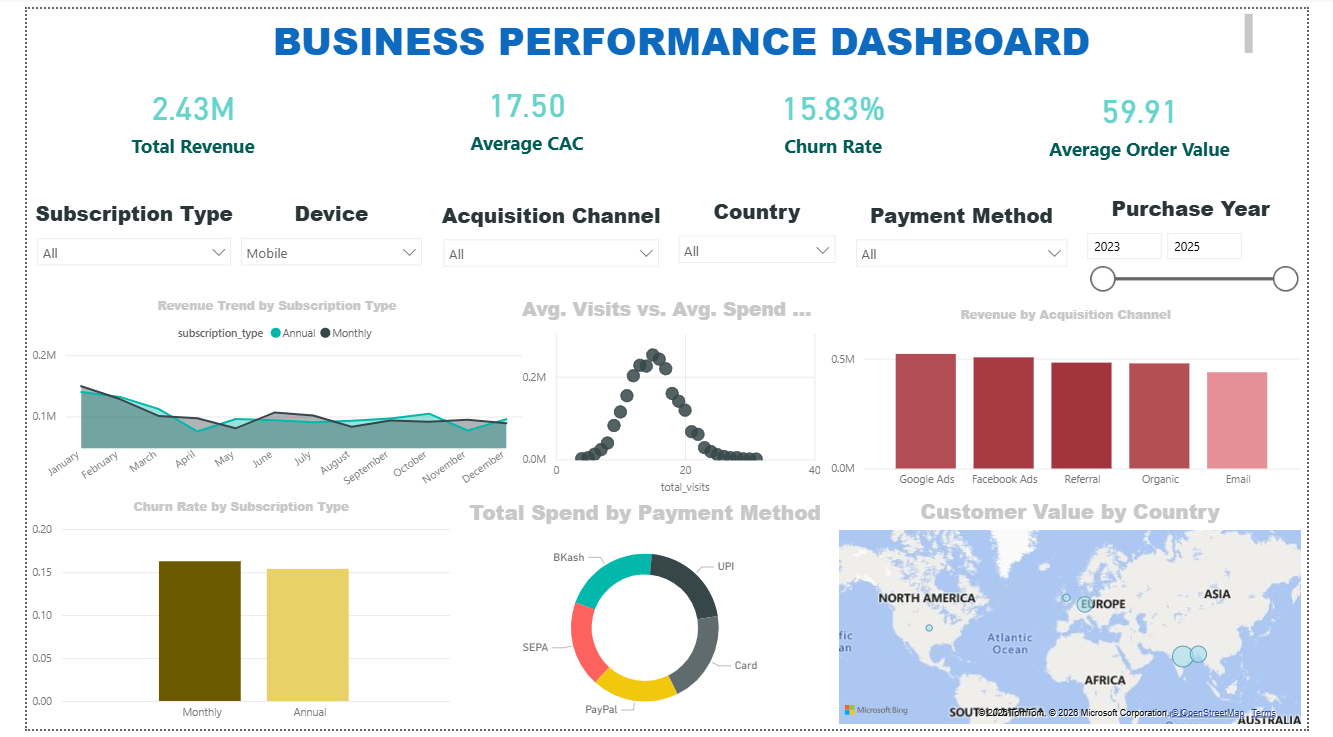

What the dashboard file says about the page in this screenshot:
{"tool":"powerbi","page":{"name":"Page 1","canvas":[1280,720],"ordinal":0},"visuals":[{"type":"card","title":"Total Revenue","fields":{"Values":["Sum(Final_Cleaned_PowerBI_Dataset.revenue)"]},"box":[0,52.2,332.5,113.7],"z":0},{"type":"card","fields":{"Values":["Avg(Final_Cleaned_PowerBI_Dataset.customer_acquisition_cost)"]},"box":[332.5,47.3,334.9,118.6],"z":1000},{"type":"card","fields":{"Values":["Final_Cleaned_PowerBI_Dataset.cRAte"]},"box":[639.3,52.2,334.9,113.7],"z":2000},{"type":"card","fields":{"Values":["Avg(Final_Cleaned_PowerBI_Dataset.average_order_value)"]},"box":[944.9,58.3,334.9,107.6],"z":3000},{"type":"clusteredColumnChart","title":"Revenue by Acquisition Channel","fields":{"Category":["Final_Cleaned_PowerBI_Dataset.acquisition_channel"],"Y":["Sum(Final_Cleaned_PowerBI_Dataset.revenue)"]},"box":[798.6,295.7,480,191.4],"z":4000},{"type":"clusteredColumnChart","title":"Churn Rate by Subscription Type","fields":{"Category":["Final_Cleaned_PowerBI_Dataset.subscription_type"],"Y":["Final_Cleaned_PowerBI_Dataset.Churn Rate"]},"box":[0,488.6,428.6,231.4],"z":5000},{"type":"slicer","title":"Purchase Year","fields":{"Values":["Final_Cleaned_PowerBI_Dataset.purchase_year"]},"box":[1047.6,184.5,232.3,101.5],"z":6000},{"type":"slicer","title":"Country","fields":{"Values":["Final_Cleaned_PowerBI_Dataset.country"]},"box":[641.4,188,177.1,87.1],"z":7000},{"type":"slicer","title":"Subscription Type","fields":{"Values":["Final_Cleaned_PowerBI_Dataset.subscription_type"]},"box":[0,189.4,214.3,102.9],"z":8000},{"type":"slicer","title":"Device","fields":{"Values":["Final_Cleaned_PowerBI_Dataset.device_type"]},"box":[204.3,190,201.4,115.7],"z":9000},{"type":"slicer","title":"Acquisition Channel","fields":{"Values":["Final_Cleaned_PowerBI_Dataset.acquisition_channel"]},"box":[405.7,191.4,235.7,88.6],"z":10000},{"type":"areaChart","title":"Revenue Trend by Subscription Type","fields":{"Category":["Final_Cleaned_PowerBI_Dataset.purchase_year","Final_Cleaned_PowerBI_Dataset.purchase_year_month.Variation.Date Hierarchy.Year","Final_Cleaned_PowerBI_Dataset.purchase_year_month.Variation.Date Hierarchy.Quarter","Final_Cleaned_PowerBI_Dataset.purchase_year_month.Variation.Date Hierarchy.Month","Final_Cleaned_PowerBI_Dataset.purchase_year_month.Variation.Date Hierarchy.Day"],"Series":["Final_Cleaned_PowerBI_Dataset.subscription_type"],"Y":["Sum(Final_Cleaned_PowerBI_Dataset.revenue)"]},"box":[0,287.1,500,201.4],"z":11000},{"type":"textbox","box":[111.2,0,1119.7,55],"z":12000},{"type":"map","title":"Customer Value by Country","fields":{"Category":["Final_Cleaned_PowerBI_Dataset.country"],"Size":["Sum(Final_Cleaned_PowerBI_Dataset.lifetime_value)"]},"box":[807.1,487.1,471.4,232.9],"z":13000},{"type":"donutChart","title":"Total Spend by Payment Method","fields":{"Category":["Final_Cleaned_PowerBI_Dataset.payment_method"],"Y":["Sum(Final_Cleaned_PowerBI_Dataset.total_spent)"]},"box":[428.6,488.6,378.6,231.4],"z":14000},{"type":"scatterChart","title":"Avg. Visits vs. Avg. Spend by Country","fields":{"X":["Final_Cleaned_PowerBI_Dataset.total_visits"],"Y":["Sum(Final_Cleaned_PowerBI_Dataset.total_spent)"],"Series":["Final_Cleaned_PowerBI_Dataset.device_type"]},"box":[490,285.7,308.6,202.9],"z":15000},{"type":"slicer","title":"Payment Method","fields":{"Values":["Final_Cleaned_PowerBI_Dataset.payment_method"]},"box":[818.6,190.9,231.4,90],"z":16000}]}

Visuals, with their boxes in screenshot pixels (x1, y1, x2, y2), scaled from the page's 1280x720 canvas onto the 1333x737 screenshot:
"Total Revenue" card: <region>0, 53, 346, 170</region>
card - Avg(Final_Cleaned_PowerBI_Dataset.customer_acquisition_cost): <region>346, 48, 695, 170</region>
card - Final_Cleaned_PowerBI_Dataset.cRAte: <region>666, 53, 1015, 170</region>
card - Avg(Final_Cleaned_PowerBI_Dataset.average_order_value): <region>984, 60, 1332, 170</region>
"Revenue by Acquisition Channel" clusteredColumnChart: <region>832, 303, 1332, 499</region>
"Churn Rate by Subscription Type" clusteredColumnChart: <region>0, 500, 446, 736</region>
"Purchase Year" slicer: <region>1091, 189, 1332, 293</region>
"Country" slicer: <region>668, 192, 852, 282</region>
"Subscription Type" slicer: <region>0, 194, 223, 299</region>
"Device" slicer: <region>213, 194, 422, 313</region>
"Acquisition Channel" slicer: <region>422, 196, 668, 287</region>
"Revenue Trend by Subscription Type" areaChart: <region>0, 294, 521, 500</region>
textbox: <region>116, 0, 1282, 56</region>
"Customer Value by Country" map: <region>841, 499, 1331, 736</region>
"Total Spend by Payment Method" donutChart: <region>446, 500, 841, 736</region>
"Avg. Visits vs. Avg. Spend by Country" scatterChart: <region>510, 292, 832, 500</region>
"Payment Method" slicer: <region>852, 195, 1093, 288</region>
